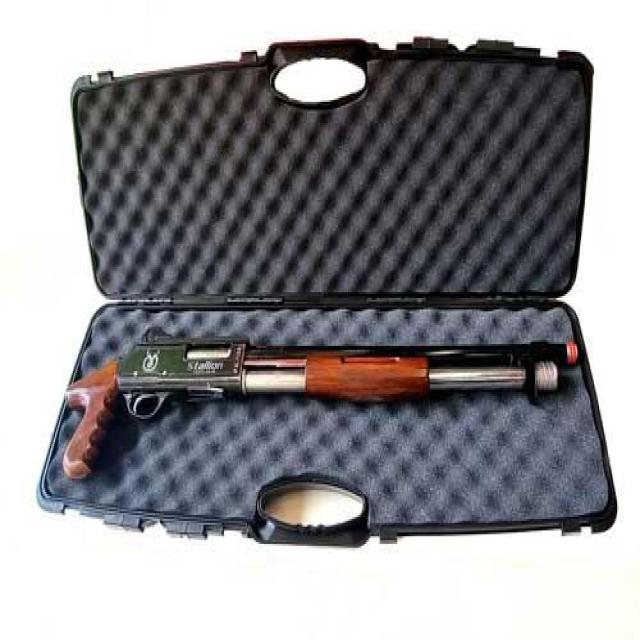weapon: (60, 340, 585, 490)
